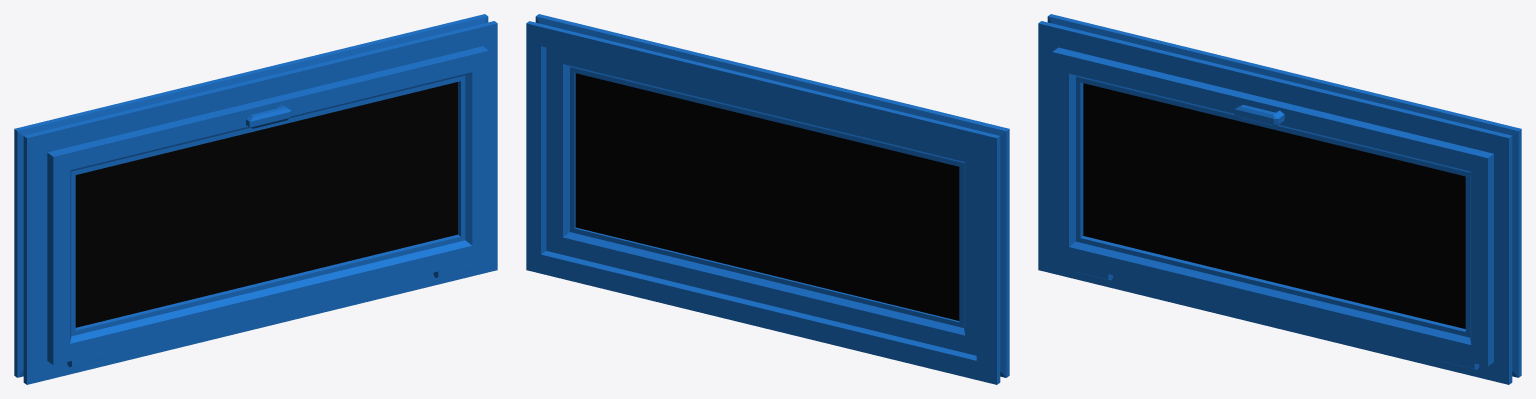
Rendered from space_window_3.fbx.
The picture shows the model from 3 angles, left to right: view 1: azimuth 30°, elevation 25°; view 2: azimuth 150°, elevation 25°; view 3: azimuth 330°, elevation 25°; orthographic projection.
Visible parts, largest first — view 1: Cube_86; view 2: Cube_86; view 3: Cube_86.
Boxes of the visible parts, left/top/right/bottom form: Cube_86: left=14, top=14, right=497, bottom=384; Cube_86: left=526, top=14, right=1009, bottom=384; Cube_86: left=1038, top=14, right=1521, bottom=384.
Size of the model in its own units: 170 by 84.97 by 16.28.
